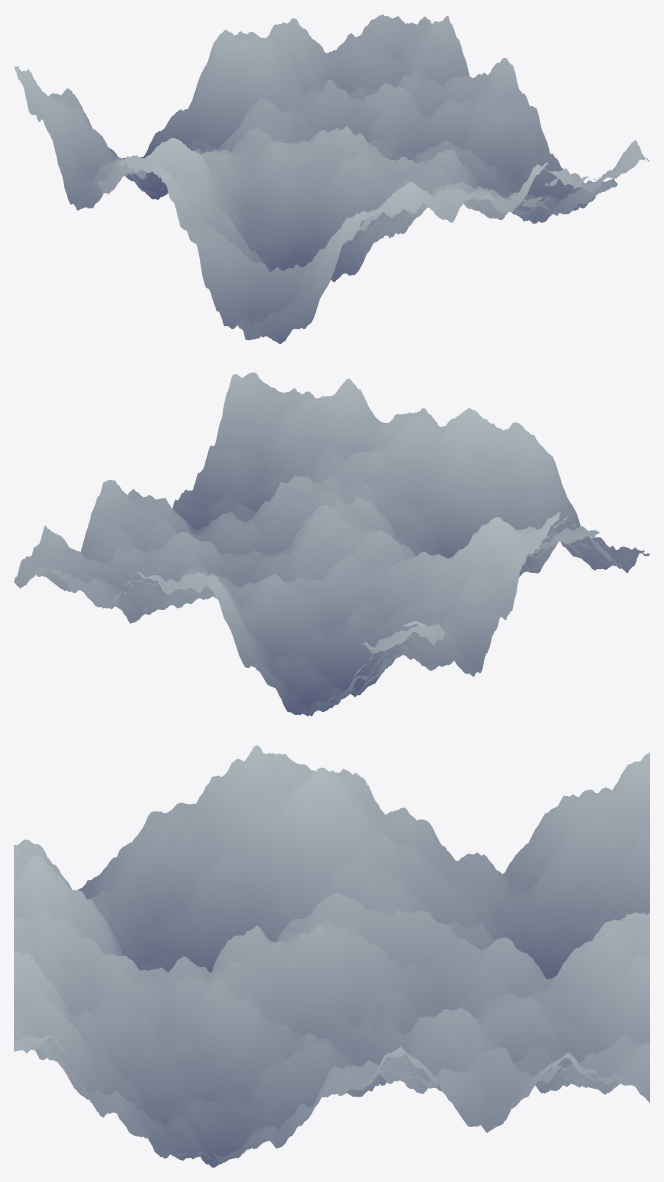
Rendered from terrain.glb.
3 views of the same model, one above another, from view 1: azimuth 30°, elevation 25°; view 2: azimuth 150°, elevation 25°; view 3: azimuth 270°, elevation 25° (orthographic). The views are drawn at different scales.
Bounding box in the file's own units: 20.1 × 7.02 × 20.1.
